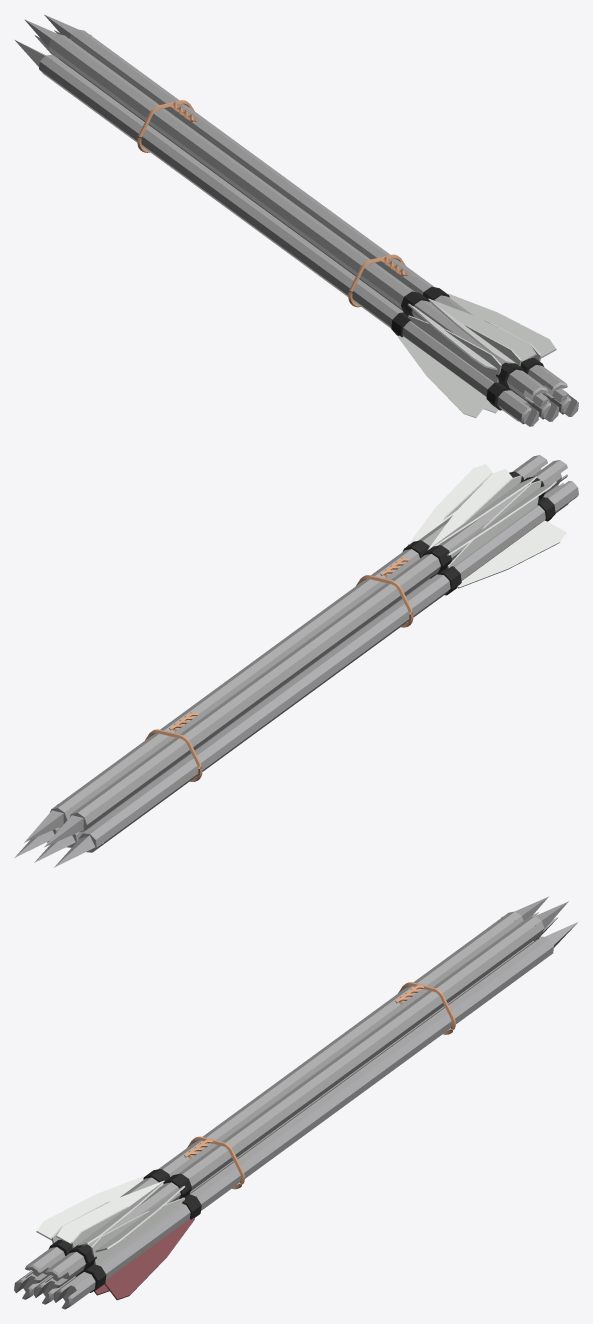
Rendered from bolt_bundle.glb.
3 renders of one model, top to bottom at view 1: azimuth 30°, elevation 25°; view 2: azimuth 150°, elevation 25°; view 3: azimuth 330°, elevation 25°, orthographic.
Visible parts, largest first — view 1: body, vanes, wire; view 2: body, vanes, wire; view 3: body, vanes, wire.
Boxes of the visible parts, x1,y1,x2,y2 form: body: (15,14,578,426); vanes: (398,294,556,418); wire: (137,100,408,307); body: (14,455,578,867); vanes: (407,464,566,588); wire: (145,557,413,781); body: (14,896,577,1309); vanes: (36,1176,194,1300); wire: (184,982,455,1189).
Bounding box in the file's own units: 0.0413 × 0.0218 × 0.38.
